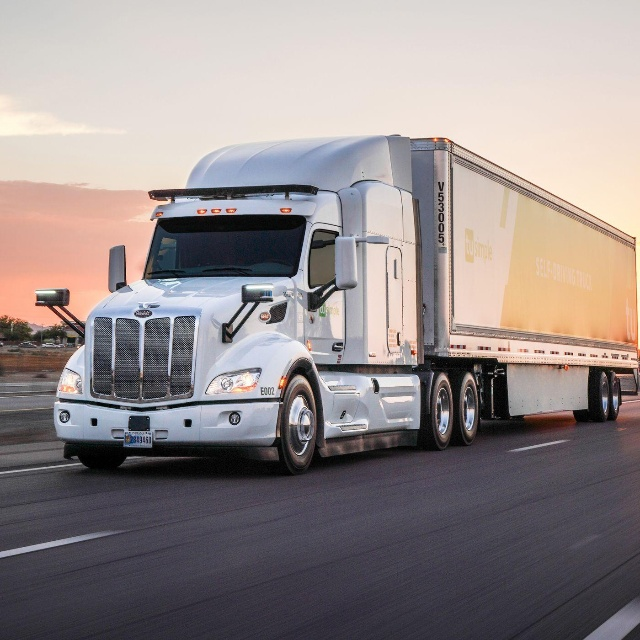Truck: (52, 133, 640, 474)
